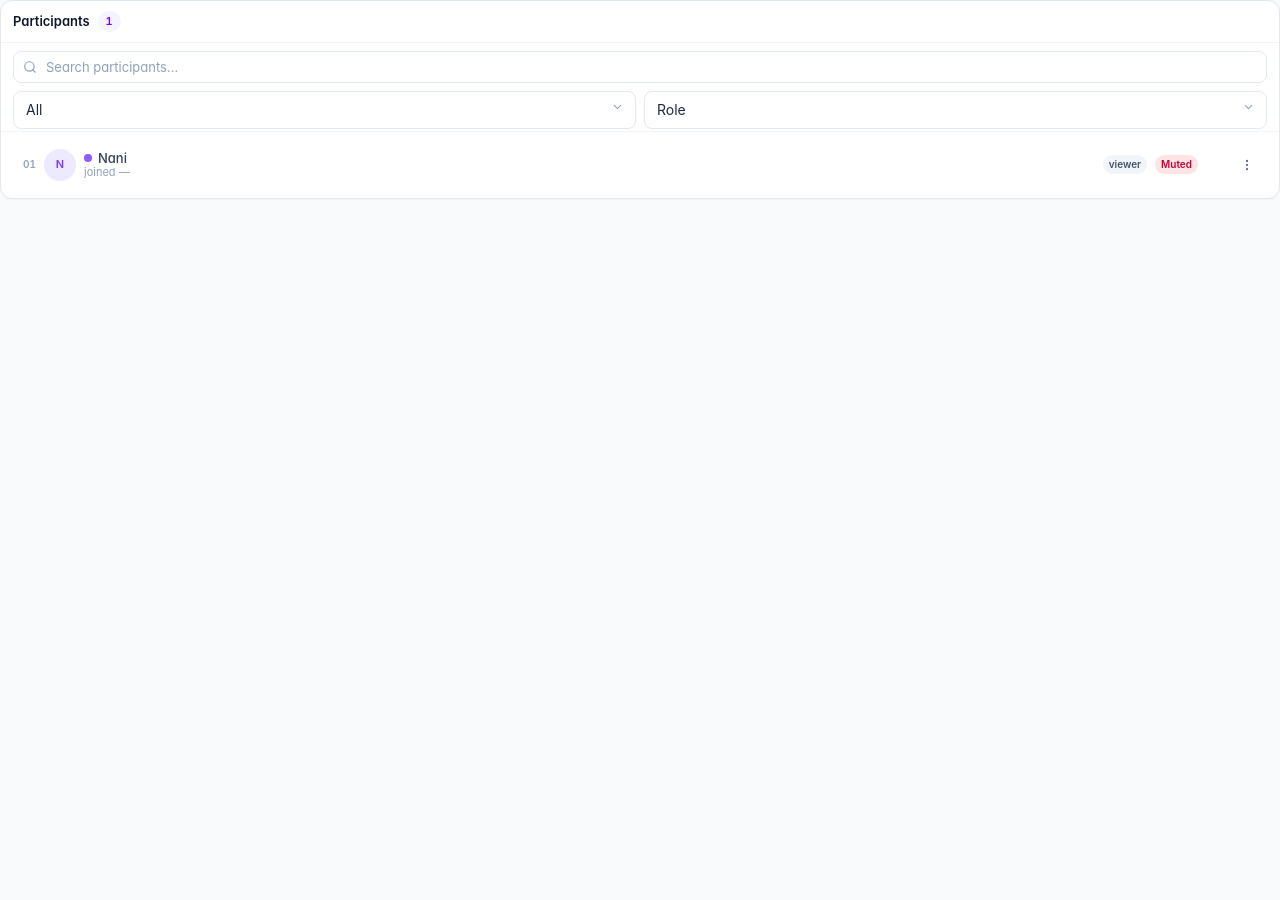
Test: across every state › viewer, off stage, silent offers the action that works
Click the button named "more actions for". click: (1247, 164)
box: [1234,150,1260,178]
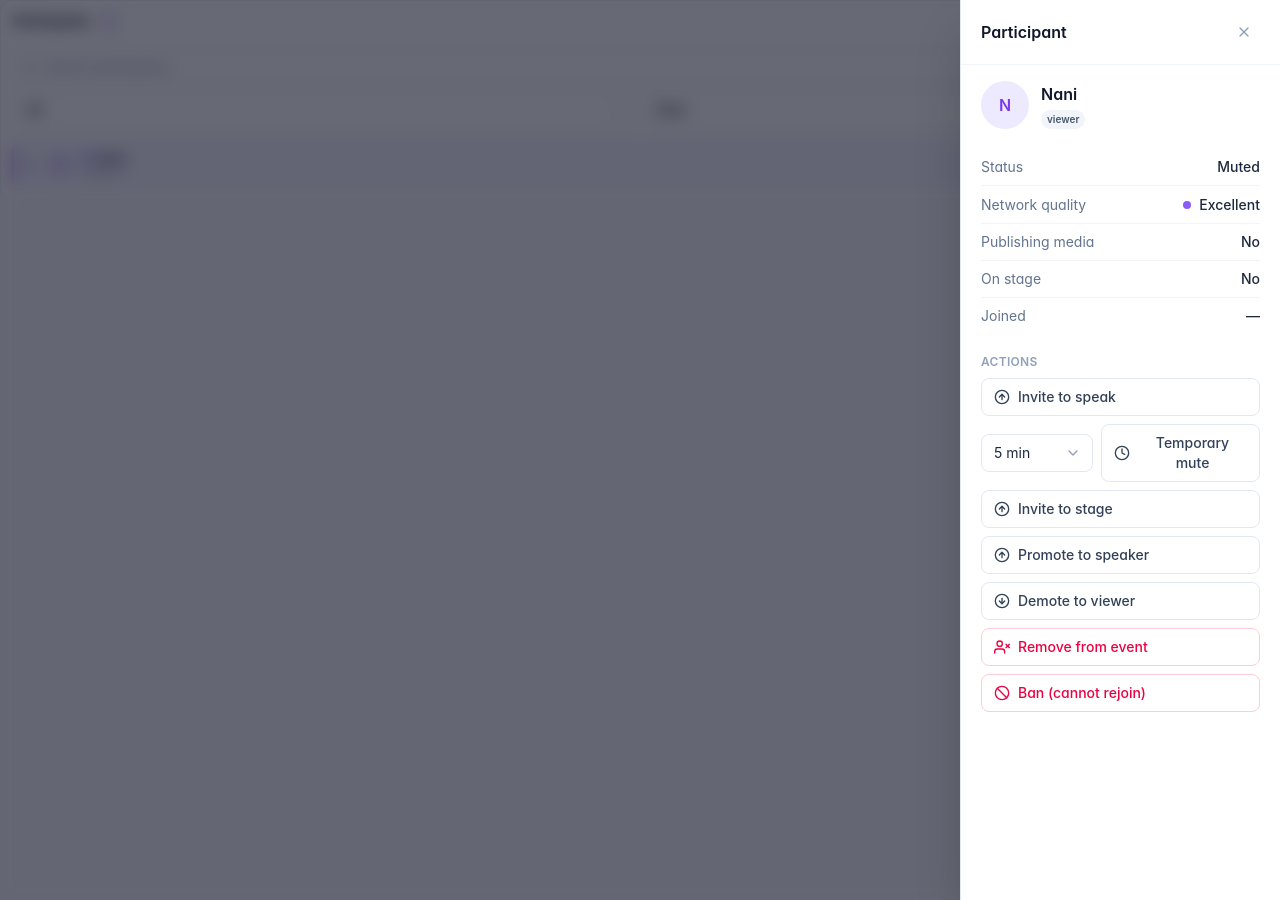
Expected: the button "Invite to speak" is shown, [981,378,1260,416]
